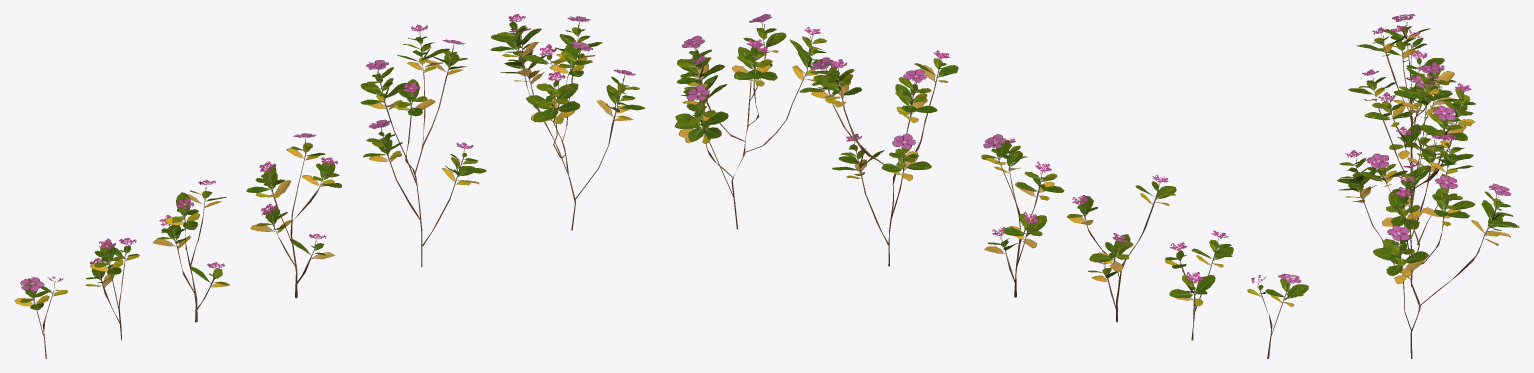
File: periwinkle_plant.glb
3 renders of one model, left to right at view 1: azimuth 30°, elevation 25°; view 2: azimuth 150°, elevation 25°; view 3: azimuth 270°, elevation 25°, orthographic. The views are drawn at different scales.
Parts seen in each view (by area): view 1: periwinkle_plant_01_LOD0, periwinkle_plant_02_LOD0, periwinkle_plant_03_LOD0, periwinkle_plant_04_LOD0, periwinkle_plant_05_LOD0, periwinkle_plant_06_LOD0; view 2: periwinkle_plant_01_LOD0, periwinkle_plant_02_LOD0, periwinkle_plant_03_LOD0, periwinkle_plant_04_LOD0, periwinkle_plant_05_LOD0, periwinkle_plant_06_LOD0; view 3: periwinkle_plant_01_LOD0, periwinkle_plant_02_LOD0, periwinkle_plant_03_LOD0, periwinkle_plant_04_LOD0, periwinkle_plant_05_LOD0, periwinkle_plant_06_LOD0.
Boxes of the visible parts, x1,y1,x2,y2 form: periwinkle_plant_01_LOD0: [490, 14, 644, 230]; periwinkle_plant_02_LOD0: [360, 24, 486, 267]; periwinkle_plant_03_LOD0: [246, 133, 341, 298]; periwinkle_plant_04_LOD0: [153, 180, 229, 322]; periwinkle_plant_05_LOD0: [85, 238, 139, 340]; periwinkle_plant_06_LOD0: [14, 276, 67, 358]; periwinkle_plant_01_LOD0: [674, 14, 832, 229]; periwinkle_plant_02_LOD0: [799, 50, 958, 266]; periwinkle_plant_03_LOD0: [981, 134, 1064, 297]; periwinkle_plant_04_LOD0: [1067, 175, 1176, 322]; periwinkle_plant_05_LOD0: [1165, 230, 1233, 340]; periwinkle_plant_06_LOD0: [1247, 273, 1308, 358]; periwinkle_plant_01_LOD0: [1337, 133, 1519, 358]; periwinkle_plant_02_LOD0: [1348, 65, 1475, 286]; periwinkle_plant_03_LOD0: [1364, 75, 1436, 207]; periwinkle_plant_04_LOD0: [1356, 27, 1457, 171]; periwinkle_plant_05_LOD0: [1379, 25, 1455, 125]; periwinkle_plant_06_LOD0: [1381, 14, 1430, 103].
Size of the model in its own units: 1.24 by 0.4108 by 0.3209.
Materials: 1 (1 with a texture image).
